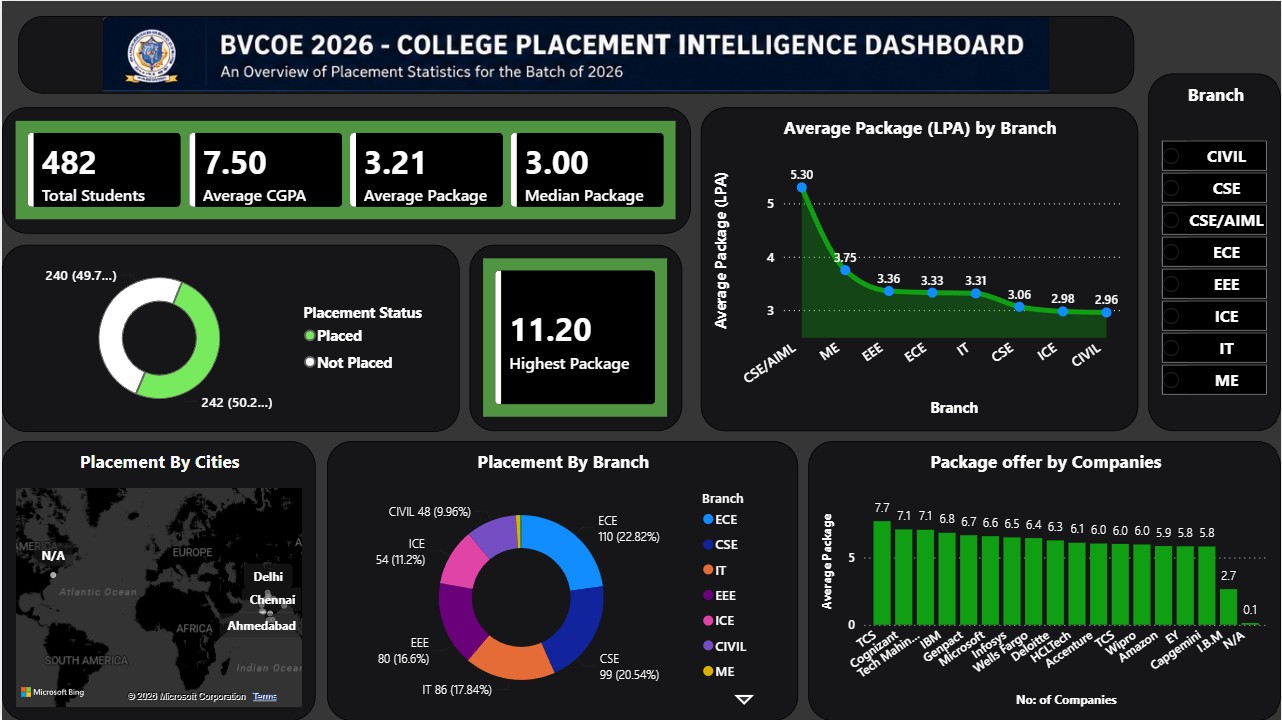

What the dashboard file says about the page in this screenshot:
{"tool":"powerbi","page":{"name":"Page 1","canvas":[1280,720],"ordinal":0},"visuals":[{"type":"stackedAreaChart","title":"Average Package (LPA) by Branch","fields":{"Y":["Avg(BVCOE_placement_record.Package_LPA)"],"Category":["BVCOE_placement_record.Branch"]},"box":[698.8,106.2,437.5,323.8],"z":0},{"type":"donutChart","title":"Placement By Branch","fields":{"Category":["BVCOE_placement_record.Branch"],"Y":["CountNonNull(BVCOE_placement_record.Package_LPA)"]},"box":[325,440,471.2,280],"z":1000},{"type":"map","title":"Placement By Cities","fields":{"Category":["BVCOE_placement_record.Placement_City"]},"box":[0,440,313.8,280],"z":2000},{"type":"clusteredColumnChart","title":"Package offer by Companies","fields":{"Category":["BVCOE_placement_record.Company"],"Y":["Avg(BVCOE_placement_record.Package_LPA)"]},"box":[806.2,440,473.8,280],"z":2001},{"type":"listSlicer","fields":{"Values":["BVCOE_placement_record.Branch"]},"box":[1146.2,72.5,133.8,357.5],"z":2002},{"type":"cardVisual","fields":{"Data":["CountNonNull(BVCOE_placement_record.Student_ID)","Avg(BVCOE_placement_record.CGPA)","Avg(BVCOE_placement_record.Package_LPA)","Median(BVCOE_placement_record.Package_LPA)1"]},"box":[0,106.2,688.8,126.2],"z":2003},{"type":"image","box":[16.2,15,1116.2,77.5],"z":2004},{"type":"donutChart","fields":{"Category":["BVCOE_placement_record.Internship_Months_1"],"Y":["CountNonNull(BVCOE_placement_record.Student_ID)"]},"box":[0,243.8,457.5,187.5],"z":2005},{"type":"cardVisual","fields":{"Data":["Max(BVCOE_placement_record.Package_LPA)"]},"box":[467.5,243.8,212.5,186.2],"z":2006}]}

Visuals, with their boxes in screenshot pixels (x1, y1, x2, y2), scaled from the page's 1280x720 canvas onto the 1282x720 screenshot:
"Average Package (LPA) by Branch" stackedAreaChart: left=700, top=106, right=1138, bottom=430
"Placement By Branch" donutChart: left=326, top=440, right=797, bottom=719
"Placement By Cities" map: left=0, top=440, right=314, bottom=719
"Package offer by Companies" clusteredColumnChart: left=807, top=440, right=1281, bottom=719
listSlicer - BVCOE_placement_record.Branch: left=1148, top=72, right=1281, bottom=430
cardVisual - CountNonNull(BVCOE_placement_record.Student_ID) x Avg(BVCOE_placement_record.CGPA): left=0, top=106, right=690, bottom=232
image: left=16, top=15, right=1134, bottom=92
donutChart - BVCOE_placement_record.Internship_Months_1 x CountNonNull(BVCOE_placement_record.Student_ID): left=0, top=244, right=458, bottom=431
cardVisual - Max(BVCOE_placement_record.Package_LPA): left=468, top=244, right=681, bottom=430
